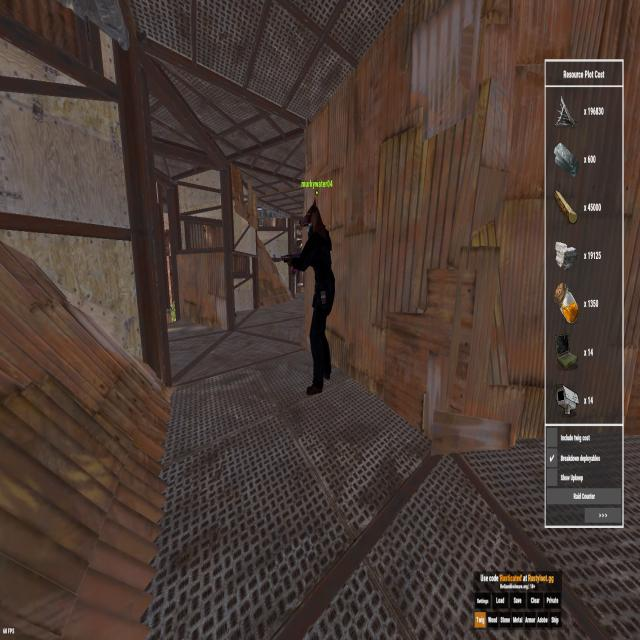Player: (290, 196, 339, 399)
